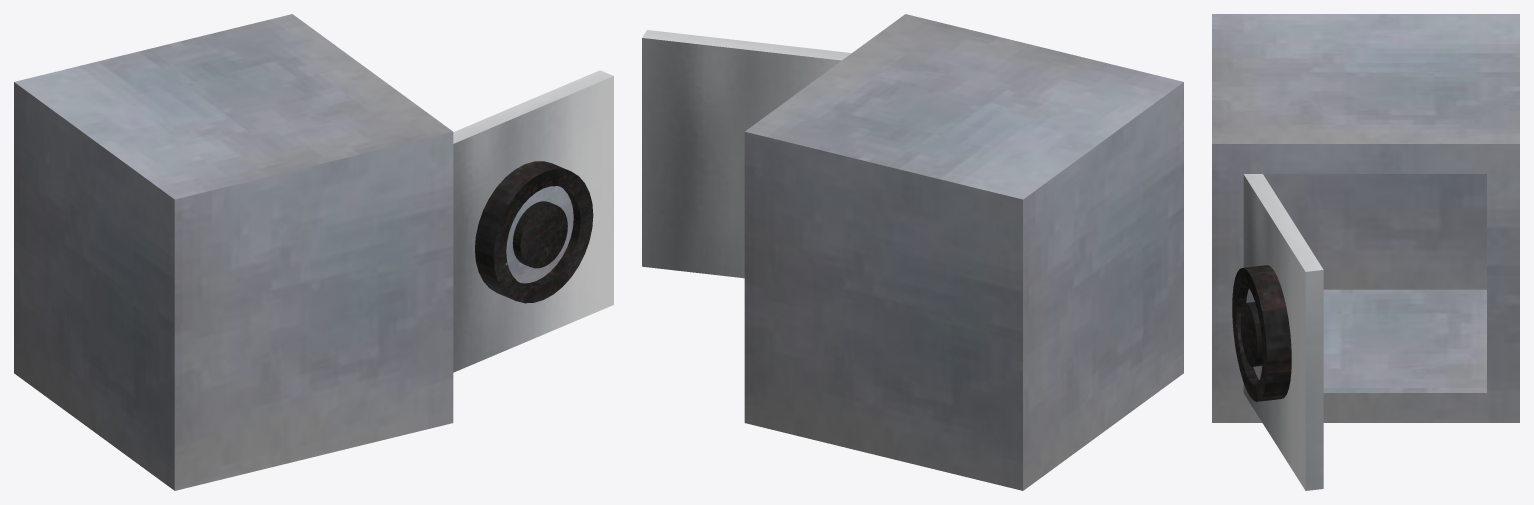
The model's file is safe_open.fbx.
3 renders of one model, left to right at view 1: azimuth 30°, elevation 25°; view 2: azimuth 150°, elevation 25°; view 3: azimuth 270°, elevation 25°, orthographic. The views are drawn at different scales.
Parts seen in each view (by area): view 1: safe_open; view 2: safe_open; view 3: safe_open.
Part boxes in pixels (box(x1,y1,x2,y2)): safe_open: box(14, 14, 613, 490); safe_open: box(642, 14, 1183, 490); safe_open: box(1212, 14, 1519, 490).
Bounding box in the file's own units: 350 × 200 × 200.
